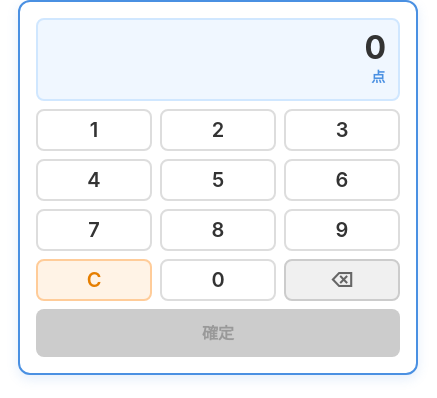
Test: NumPad › 確定機能 › 無効な得点を入力すると確定ボタンが無効のまま
What coordinates should you click on to do the following:
click the button "1"
I would click on:
 (94, 130)
Its box is x1=36 y1=109 x2=152 y2=151.
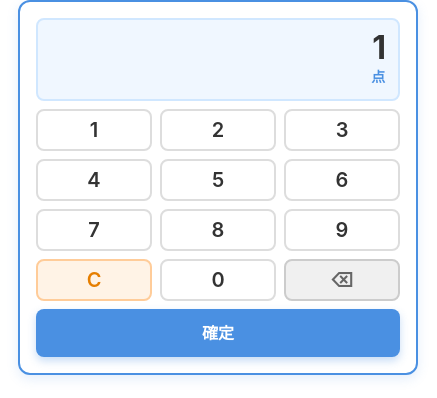
What coordinates should you click on to do the following:
click the button "6"
I would click on:
 (342, 180)
Its box is x1=284 y1=159 x2=400 y2=201.
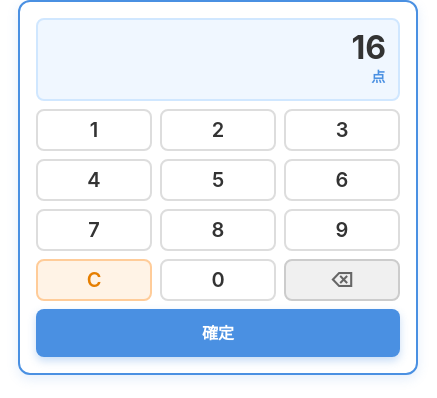
What coordinates should you click on to do the following:
click the button "3"
I would click on:
 (342, 130)
Its box is x1=284 y1=109 x2=400 y2=151.
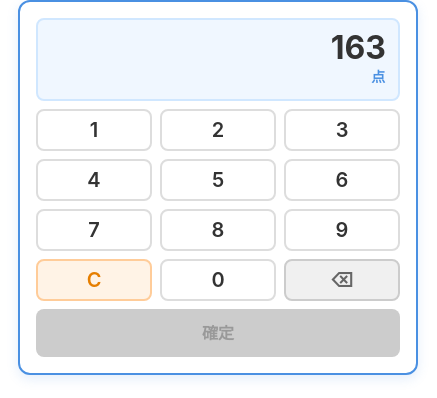
Now the button with aria-label "Confirm" is disabled, box x1=36 y1=309 x2=400 y2=357
